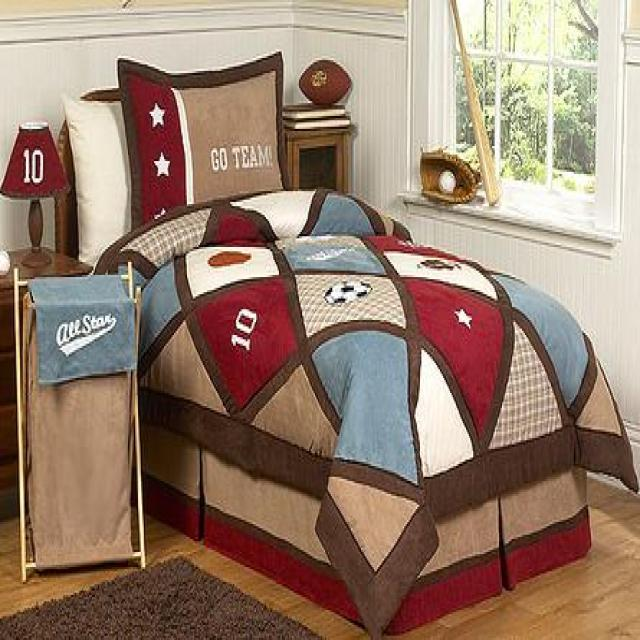sofa: (50, 54, 637, 638)
table: (0, 244, 93, 515)
